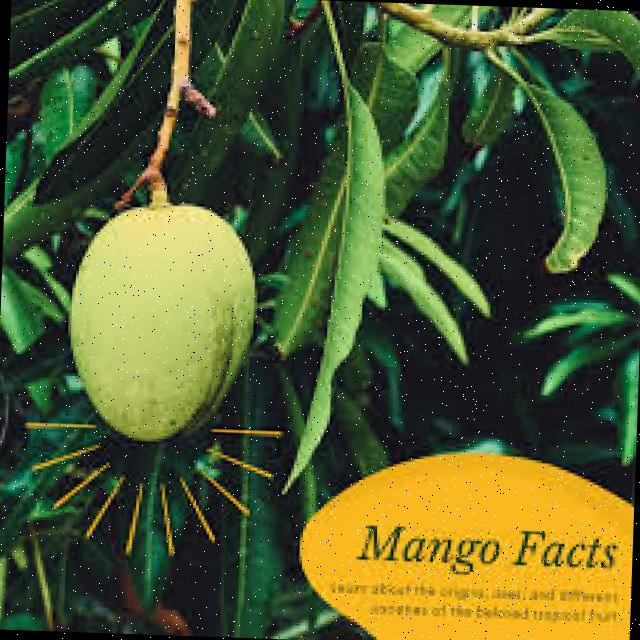mango: (67, 188, 257, 437)
